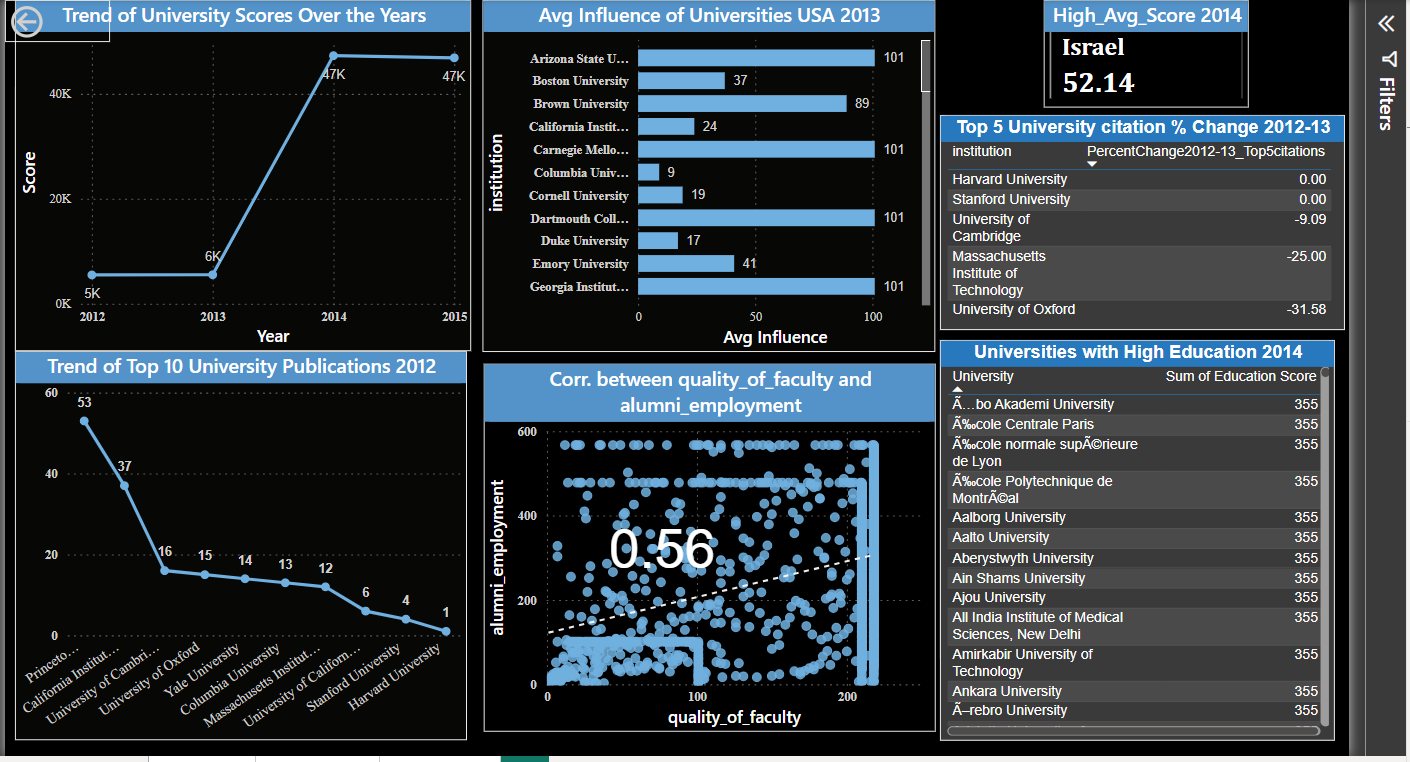

The page's visual inventory and layout, read from the dashboard file:
{"tool":"powerbi","page":{"name":"Que. 1-7","canvas":[1280,720],"ordinal":0},"visuals":[{"type":"lineChart","title":"Trend of University Scores Over the Years","fields":{"Category":["world_ranking_universities.year"],"Y":["world_ranking_universities.score"]},"box":[9,0,434.8,334.3],"z":0},{"type":"actionButton","box":[0,0,100,40],"z":1000},{"type":"clusteredBarChart","title":"Avg Influence of Universities USA 2013","fields":{"Category":["world_ranking_universities.institution"],"Y":["world_ranking_universities.Avg_Influence_USA_2013"]},"box":[454.2,0,430.9,334.8],"z":2000},{"type":"multiRowCard","title":"High_Avg_Score 2014","fields":{"Values":["world_ranking_universities.High_avg_score_2014","world_ranking_universities.country"]},"box":[989.2,0,195.4,102.4],"z":3000},{"type":"scatterChart","title":"Corr. between quality_of_faculty and alumni_employment","fields":{"X":["world_ranking_universities.quality_of_faculty"],"Y":["world_ranking_universities.alumni_employment"]},"box":[456.1,346,430.6,350.3],"z":4000,"group":"g1"},{"type":"tableEx","title":"Top 5 University citation % Change 2012-13","fields":{"Values":["world_ranking_universities.institution","world_ranking_universities.PercentChange2012-13_Top5citations"]},"box":[890.8,109.2,385.4,204.8],"z":4000},{"type":"card","fields":{"Values":["world_ranking_universities.faculty_alumni_corr"]},"box":[547.1,455.5,159,126.7],"z":5000,"group":"g1"},{"type":"group","id":"g1","title":"Group 1","box":[456.1,346,430.6,350.3],"z":5000},{"type":"lineChart","title":"Trend of Top 10 University Publications 2012","fields":{"Y":["Top10University2012.Publications"],"Category":["Top10University2012.University"]},"box":[9,334.3,430.3,370.3],"z":6000},{"type":"tableEx","title":"Universities with High Education 2014","fields":{"Values":["High_education_2014_University.University","High_education_2014_University.Education Score"]},"box":[890.8,323.4,376,381.4],"z":7000}]}

Visuals, with their boxes in screenshot pixels (x1, y1, x2, y2):
"Trend of University Scores Over the Years" lineChart: rect(13, 18, 468, 368)
actionButton: rect(4, 18, 108, 60)
"Avg Influence of Universities USA 2013" clusteredBarChart: rect(479, 18, 930, 369)
"High_Avg_Score 2014" multiRowCard: rect(1039, 18, 1243, 125)
"Corr. between quality_of_faculty and alumni_employment" scatterChart: rect(481, 380, 931, 747)
"Top 5 University citation % Change 2012-13" tableEx: rect(936, 132, 1339, 347)
card - world_ranking_universities.faculty_alumni_corr: rect(576, 495, 742, 628)
"Group 1" group: rect(481, 380, 931, 747)
"Trend of Top 10 University Publications 2012" lineChart: rect(13, 368, 463, 756)
"Universities with High Education 2014" tableEx: rect(936, 357, 1329, 756)
